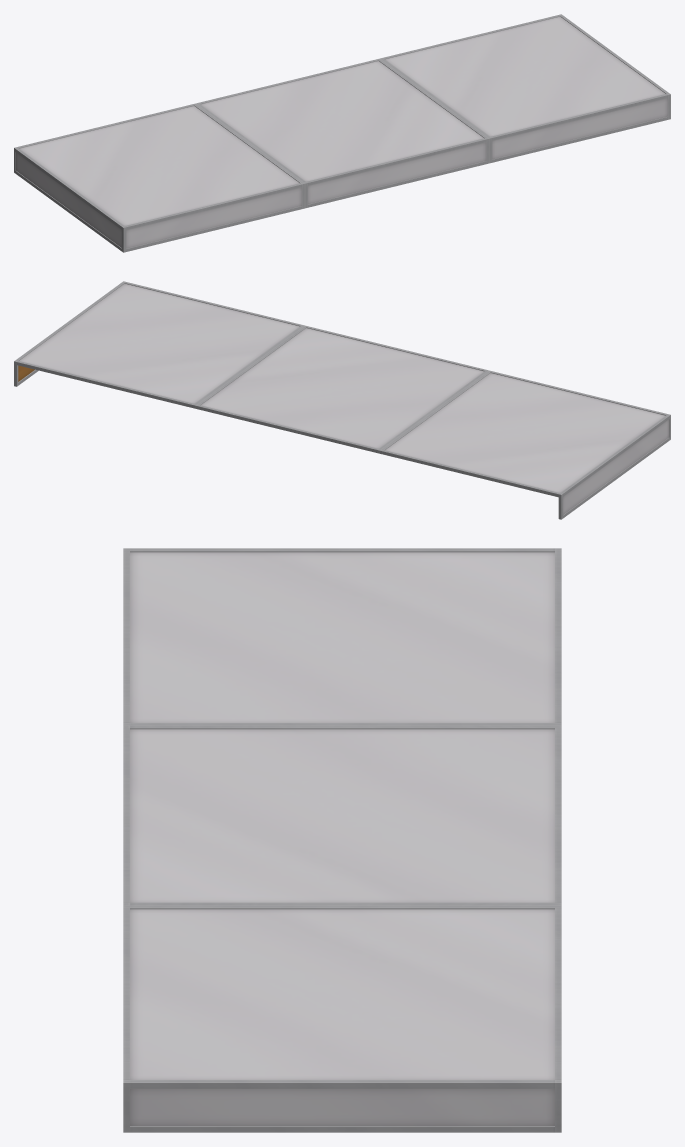
The model's file is jsf_2P_s03_c04_t01_DX.fbx.
3 views of the same model, one above another, from view 1: azimuth 30°, elevation 25°; view 2: azimuth 150°, elevation 25°; view 3: azimuth 270°, elevation 25° (orthographic). The views are drawn at different scales.
Parts seen in each view (by area): view 1: jsf_2P_s03_c04_t01_DX; view 2: jsf_2P_s03_c04_t01_DX; view 3: jsf_2P_s03_c04_t01_DX.
Boxes of the visible parts, x1,y1,x2,y2 form: jsf_2P_s03_c04_t01_DX: (14,14,670,252); jsf_2P_s03_c04_t01_DX: (14,281,670,519); jsf_2P_s03_c04_t01_DX: (123,548,561,1132).
Size of the model in its own units: 289 by 12.51 by 100.
